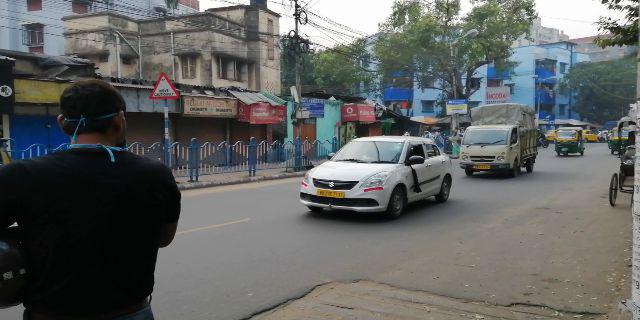Autorickshaw: (554, 130, 586, 156)
Car: (298, 134, 454, 217)
Minitruck: (460, 115, 540, 180)
